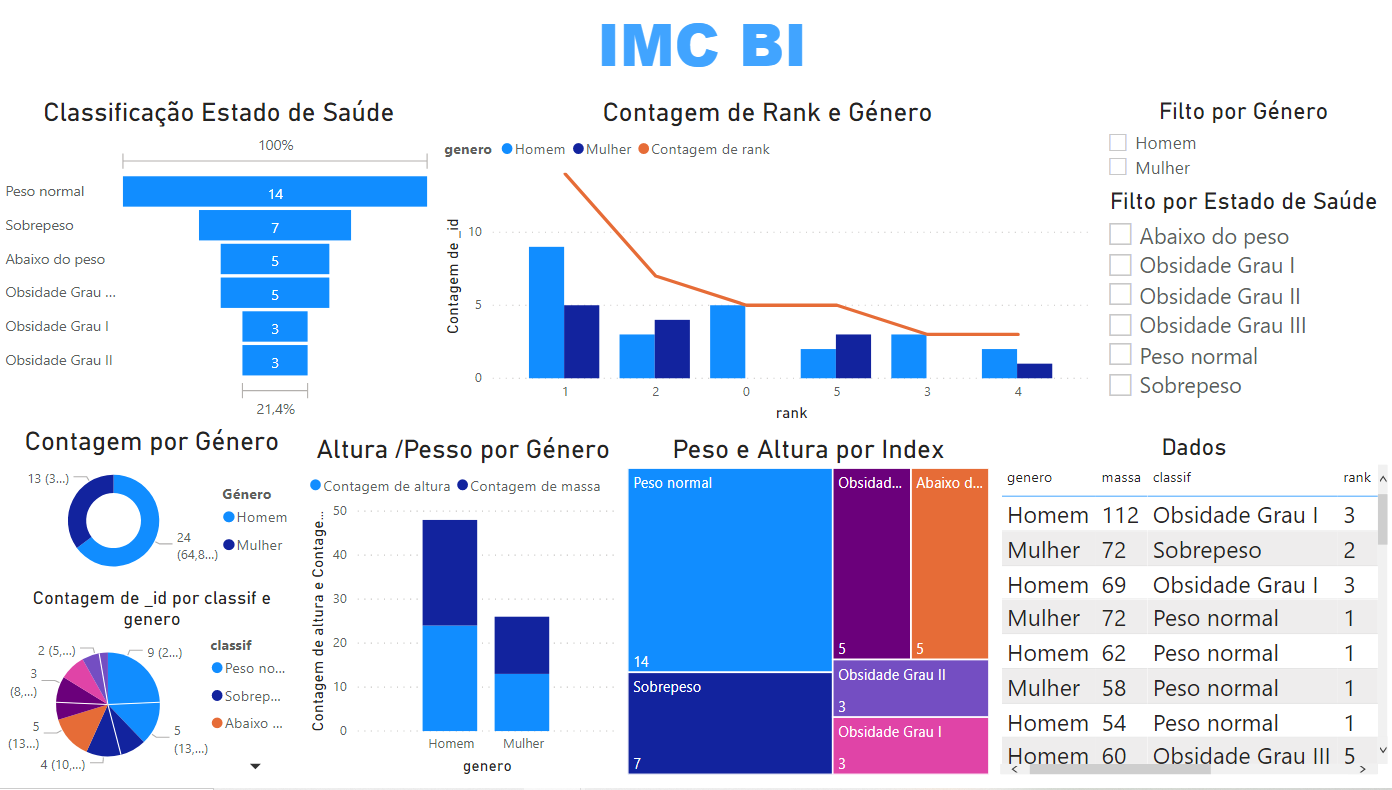

The dashboard page shown, as its layout file describes it:
{"tool":"powerbi","page":{"name":"Dados BI","canvas":[1280,720],"ordinal":0},"visuals":[{"type":"textbox","box":[10.2,0,1269.8,91.4],"z":0},{"type":"donutChart","title":"Contagem  por Género","fields":{"Category":["Consulta1.genero"],"Y":["CountNonNull(Consulta1.genero)"]},"box":[0,394.5,279.4,147.3],"z":1000},{"type":"tableEx","title":"Dados","fields":{"Values":["Consulta1.genero","Consulta1.massa","Consulta1.classif","Consulta1.rank","Consulta1.createdAt"]},"box":[914.3,401.3,365.7,318.3],"z":2000},{"type":"slicer","title":"Filto por Género","fields":{"Values":["Consulta1.genero"]},"box":[1006.7,92,273.3,82.4],"z":3000},{"type":"treemap","title":"Peso e Altura por Index","fields":{"Group":["Consulta1.classif"],"Values":["CountNonNull(Consulta1.altura)"]},"box":[572.3,401.3,342,318.3],"z":5000},{"type":"funnel","title":"Classificação Estado de Saúde","fields":{"Category":["Consulta1.classif"],"Y":["Count(Consulta1._id)"]},"box":[0,92,402.4,302.1],"z":6000},{"type":"slicer","title":"Filto por Estado de Saúde","fields":{"Values":["Consulta1.classif"]},"box":[1006.7,174.4,273.3,203.3],"z":7000},{"type":"pieChart","fields":{"Category":["Consulta1.classif","Consulta1.massa","Consulta1.rank"],"Series":["Consulta1.genero"],"Y":["CountNonNull(Consulta1._id)"]},"box":[0,541.8,279.4,177.8],"z":9000},{"type":"lineClusteredColumnComboChart","title":"Contagem de Rank e Género","fields":{"Y2":["CountNonNull(Consulta1.rank)"],"Category":["Consulta1.rank"],"Y":["CountNonNull(Consulta1._id)"],"Series":["Consulta1.genero"]},"box":[403,91.4,604.4,303.1],"z":9002},{"type":"lineStackedColumnComboChart","title":"Altura /Pesso  por Género","fields":{"Category":["Consulta1.genero"],"Y":["CountNonNull(Consulta1.altura)","CountNonNull(Consulta1.massa)"]},"box":[279.4,401.3,292.9,318.3],"z":9003}]}

Visuals, with their boxes in screenshot pixels (x1, y1, x2, y2), scaled from the page's 1280x720 canvas onto the 1392x790 screenshot:
textbox: bbox=[11, 0, 1391, 100]
"Contagem  por Género" donutChart: bbox=[0, 433, 304, 594]
"Dados" tableEx: bbox=[994, 440, 1391, 789]
"Filto por Género" slicer: bbox=[1095, 101, 1391, 191]
"Peso e Altura por Index" treemap: bbox=[622, 440, 994, 789]
"Classificação Estado de Saúde" funnel: bbox=[0, 101, 438, 432]
"Filto por Estado de Saúde" slicer: bbox=[1095, 191, 1391, 414]
pieChart - Consulta1.classif x Consulta1.massa: bbox=[0, 594, 304, 789]
"Contagem de Rank e Género" lineClusteredColumnComboChart: bbox=[438, 100, 1096, 433]
"Altura /Pesso  por Género" lineStackedColumnComboChart: bbox=[304, 440, 622, 789]
